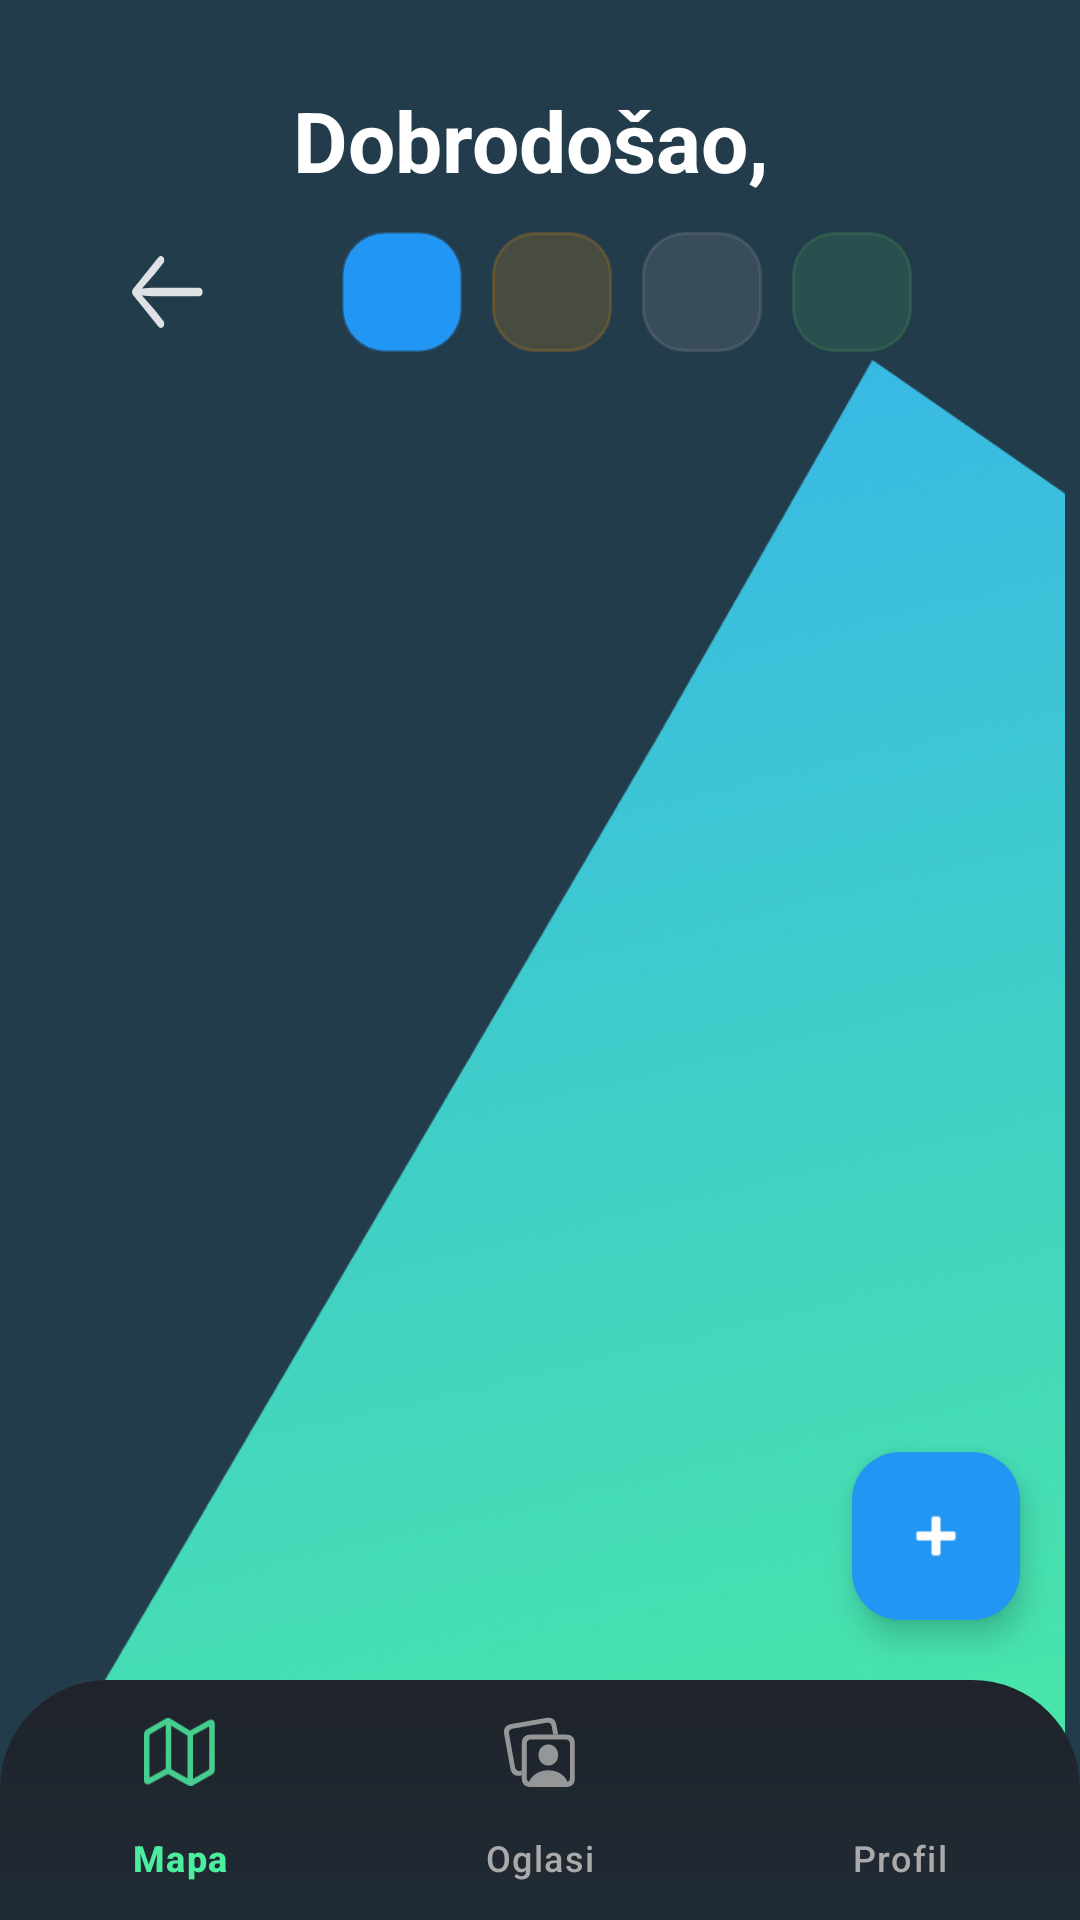

Point at icon controls on the screen. Image size 1080*1920, points as point (x, y).
Dodaj: point (936, 1536)
Nazad: point (167, 292)
